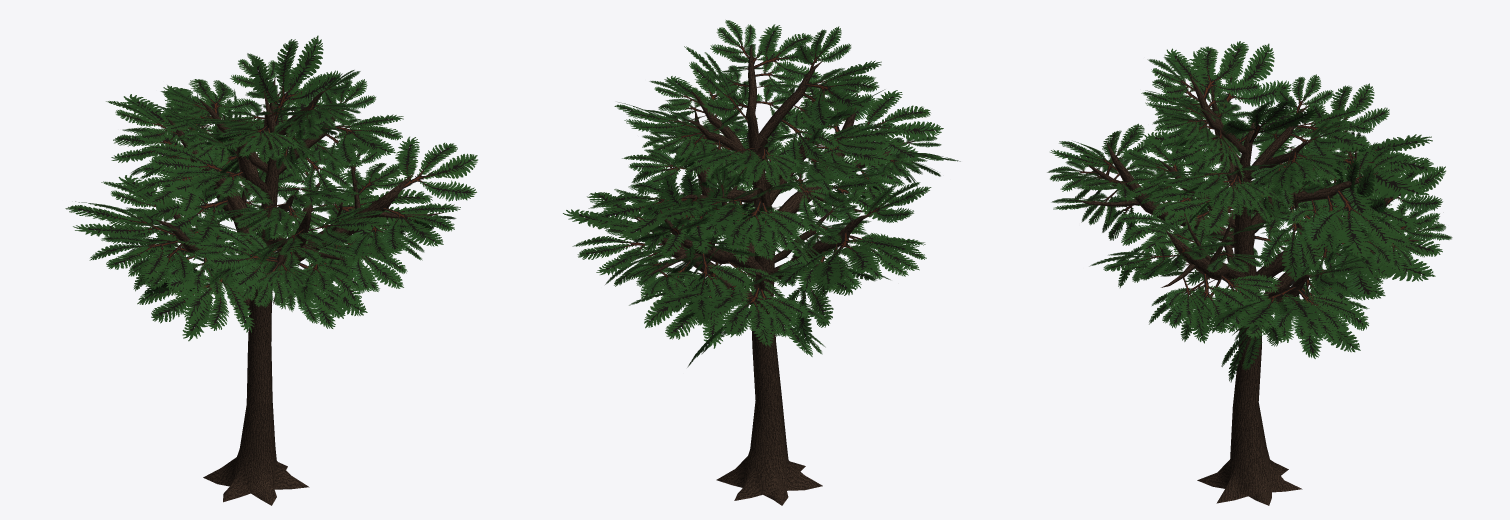
Rendered from Tree.glb.
3 renders of one model, left to right at view 1: azimuth 30°, elevation 25°; view 2: azimuth 150°, elevation 25°; view 3: azimuth 270°, elevation 25°, orthographic.
Visible parts, largest first — view 1: Tree; view 2: Tree; view 3: Tree.
Boxes of the visible parts, box(x1,y1,x2,y2) form: Tree: box(65, 35, 477, 505); Tree: box(563, 20, 960, 505); Tree: box(1047, 41, 1452, 505).
Size of what is drawn, in the model's own units: 11.73 by 11.5 by 11.65.
2 materials, 2 textured.
